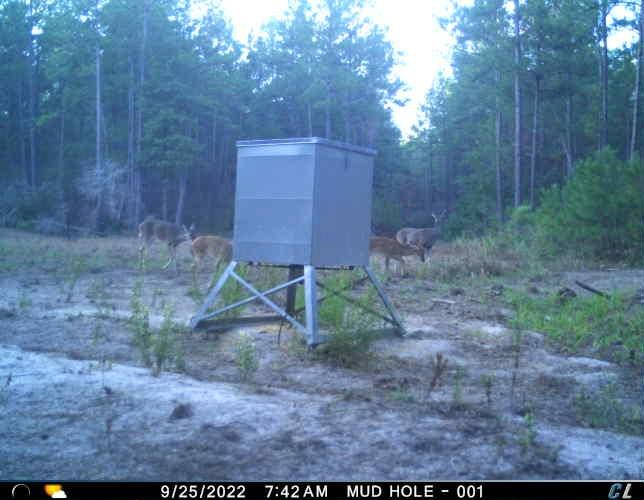Deer: (135, 217, 196, 271), (372, 239, 427, 287), (397, 208, 451, 254), (186, 232, 233, 279)
